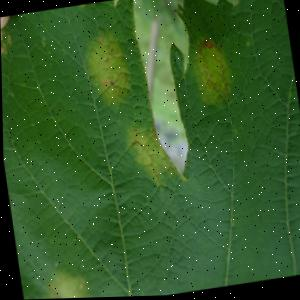Folha: (0, 0, 300, 300)
Fungo: (81, 31, 135, 116), (126, 121, 179, 201), (188, 37, 234, 110), (40, 265, 90, 299), (0, 16, 20, 76), (0, 15, 15, 34), (202, 41, 213, 52), (101, 79, 108, 90)
